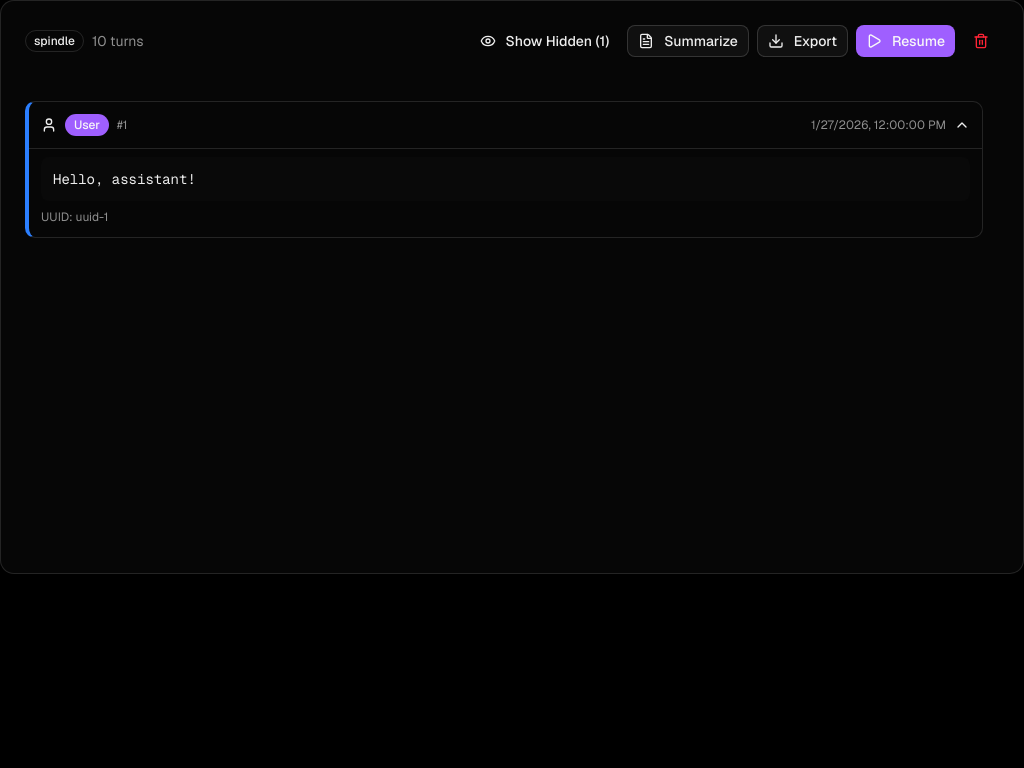
Test case: SessionViewer › hidden turns toggle › should show hidden turns when toggled
The width and height of the screenshot is (1024, 768).
Click the button "Show Hidden (1)" at x=544, y=41, box 470,25 -> 619,57
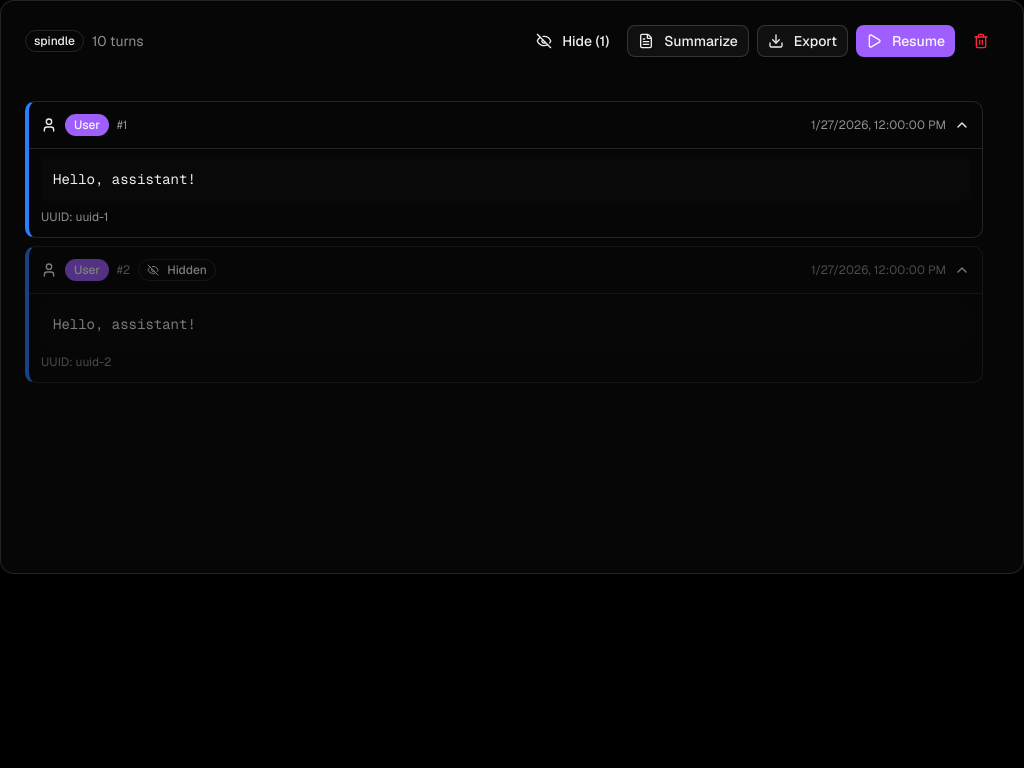
Expected: the text "#1" is shown, 117,117 -> 128,133
Expected: the text "#2" is shown, 117,262 -> 130,278
